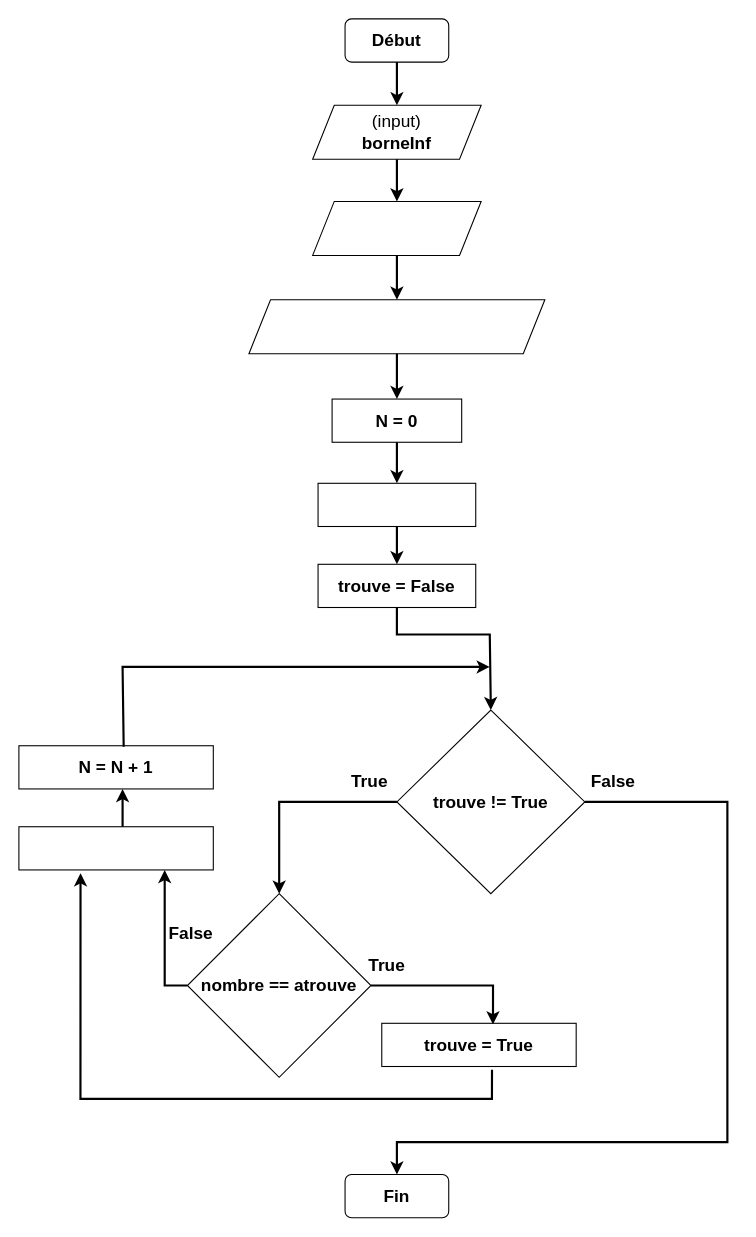
This 756x1237 diagram has some shape labels left out. The centre of each missing label's shape, as x and y in pixels:
(input) borneSup: point 396,227
(input) Nombre à trouver : atrouver: point 396,326
nombre = 0: point 396,504
nombre = nombre + 1: point 115,848
